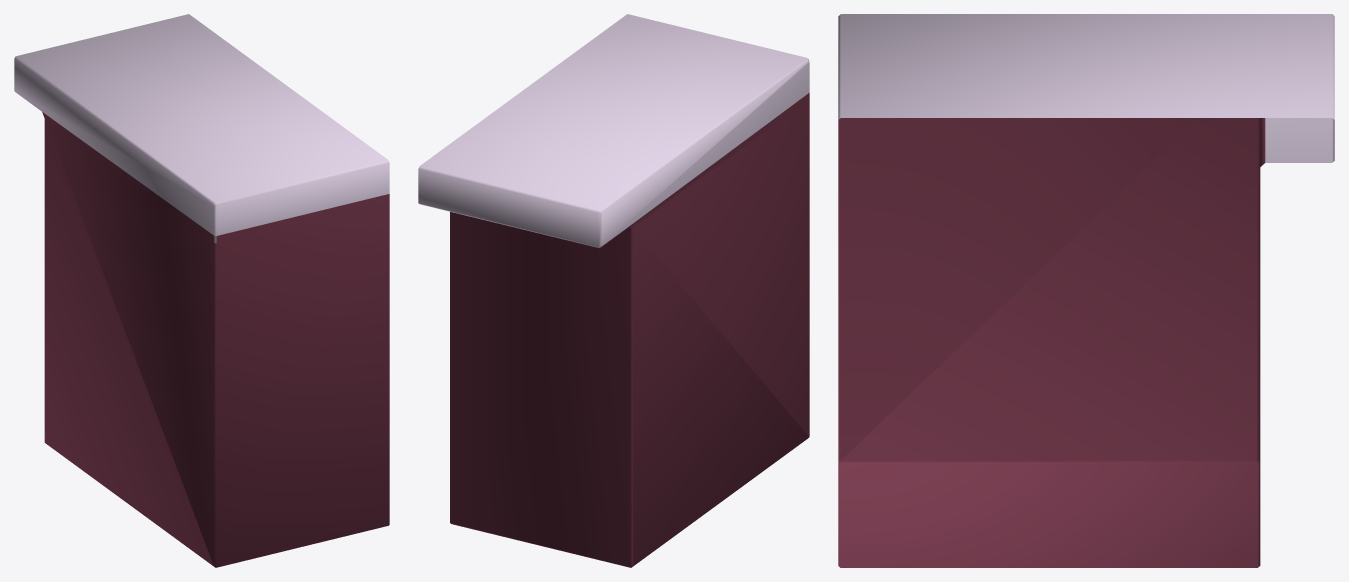
Rendered from HalfCounterRight.fbx.
3 views of the same model, side by side, from view 1: azimuth 30°, elevation 25°; view 2: azimuth 150°, elevation 25°; view 3: azimuth 270°, elevation 25° (orthographic). The views are drawn at different scales.
Parts seen in each view (by area): view 1: counterEndRight; view 2: counterEndRight; view 3: counterEndRight.
Boxes of the visible parts, box(x1,y1,x2,y2) form: counterEndRight: box(14, 14, 389, 567); counterEndRight: box(418, 14, 809, 567); counterEndRight: box(838, 14, 1334, 567).
Bounding box in the file's own units: 100 × 200 × 200.
